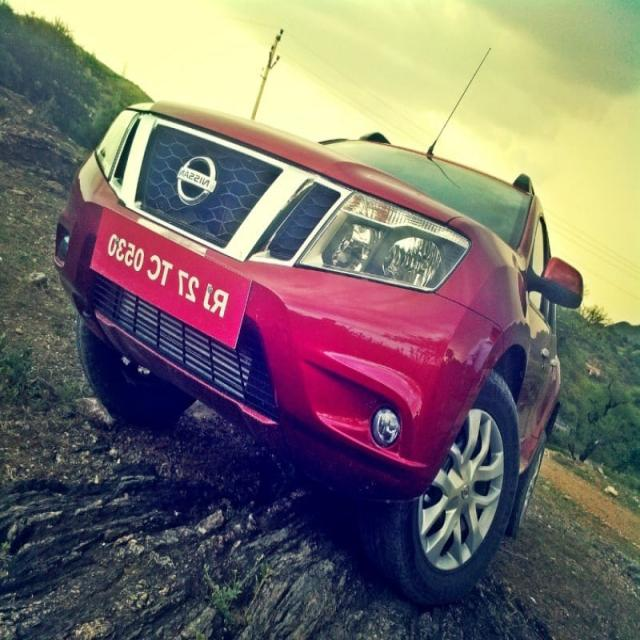number-plate: (108, 205, 250, 373)
